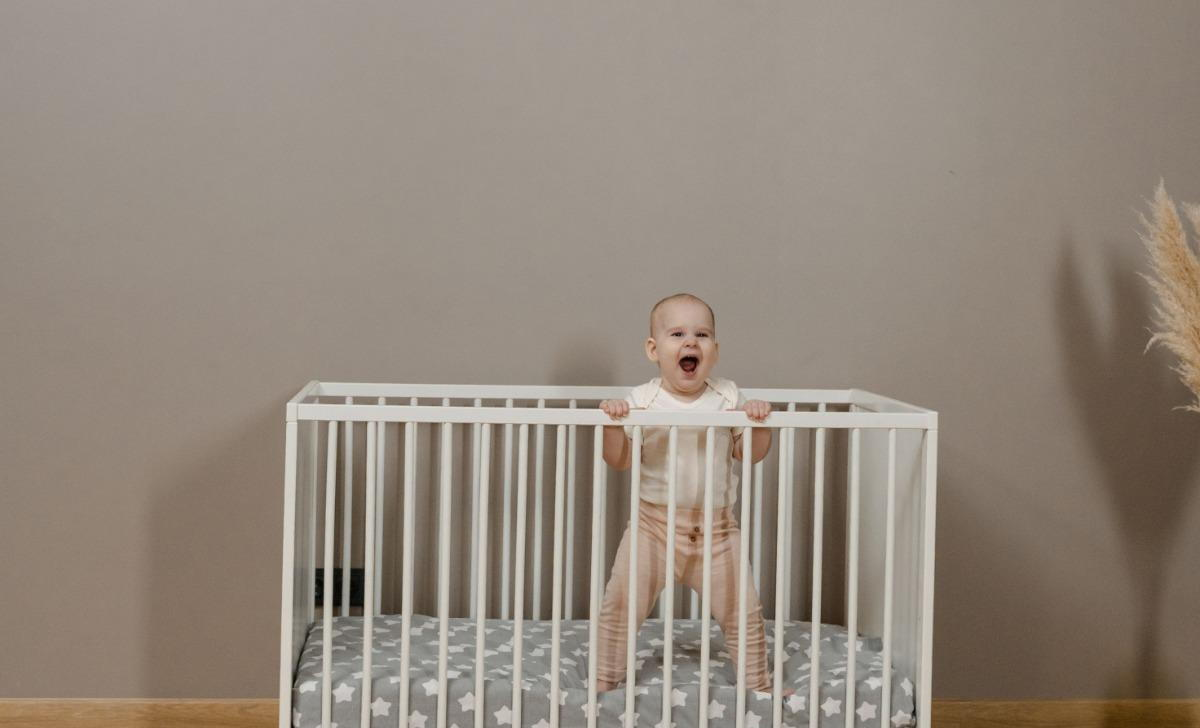baby: (635, 427, 706, 634)
crib: (280, 381, 935, 727)
